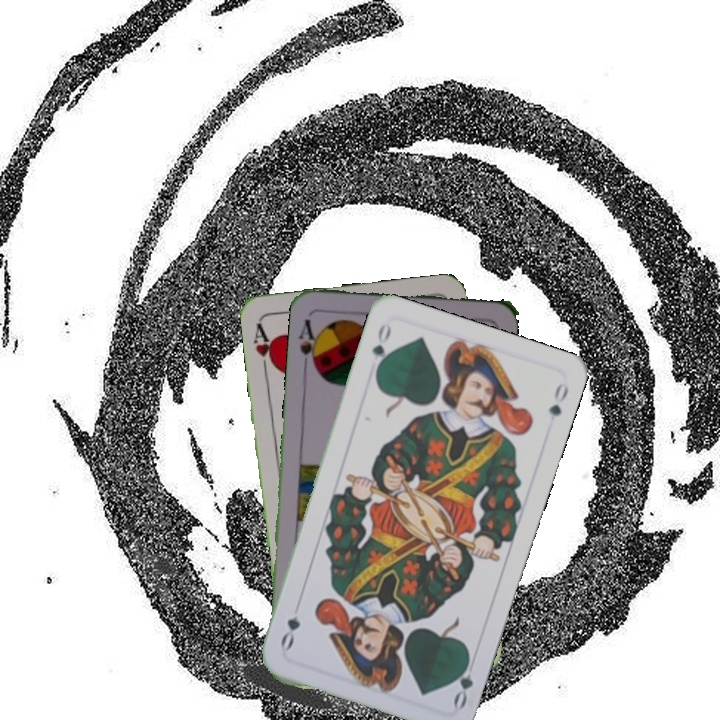GO: (449, 651, 479, 711), (367, 319, 394, 377)
HA: (249, 319, 279, 377)
SA: (295, 315, 323, 371)
